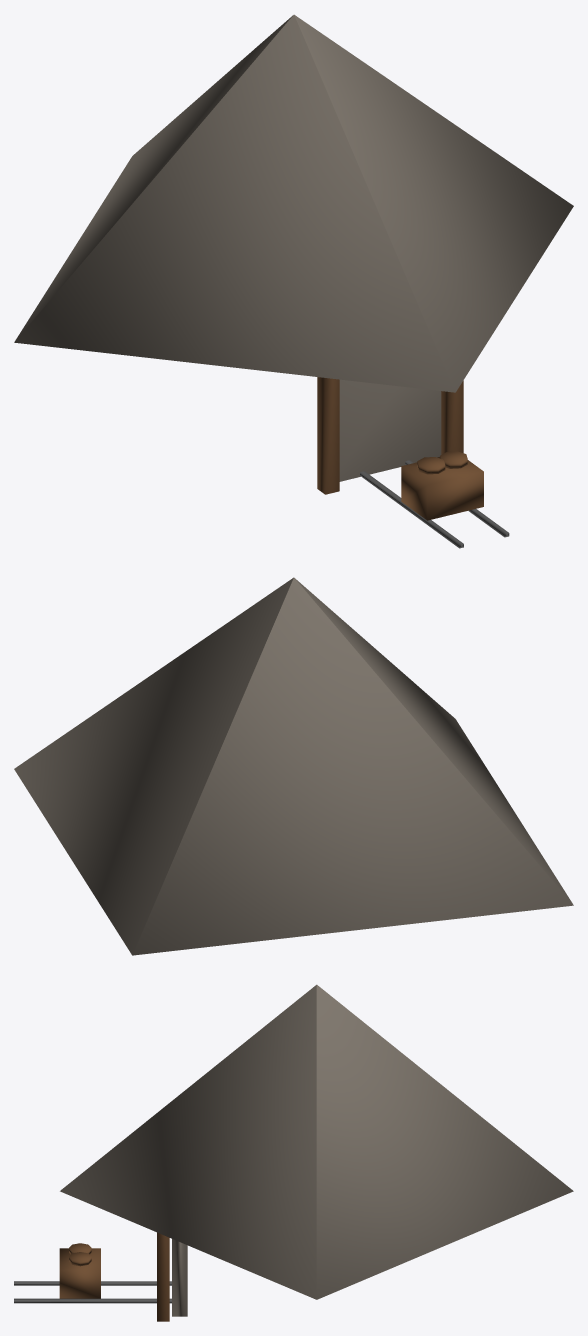
File: mine.glb
3 renders of one model, top to bottom at view 1: azimuth 30°, elevation 25°; view 2: azimuth 150°, elevation 25°; view 3: azimuth 270°, elevation 25°, orthographic. The views are drawn at different scales.
Visible parts, largest first — view 1: hill, entrance, cart_base, support_left, support_right, track_left; view 2: hill; view 3: hill, cart_base, entrance, support_right, track_right, track_left.
Part boxes in pixels (bbox=[...]): hill: bbox=[14, 14, 573, 392]; entrance: bbox=[339, 379, 441, 481]; cart_base: bbox=[401, 457, 483, 520]; support_left: bbox=[317, 377, 339, 494]; support_right: bbox=[441, 380, 463, 454]; track_left: bbox=[360, 471, 463, 548]; hill: bbox=[14, 577, 573, 955]; hill: bbox=[60, 984, 573, 1299]; cart_base: bbox=[59, 1248, 100, 1298]; entrance: bbox=[172, 1239, 187, 1316]; support_right: bbox=[157, 1232, 169, 1321]; track_right: bbox=[14, 1298, 171, 1303]; track_left: bbox=[14, 1281, 171, 1285].
Size of the model in its own units: 9.92 by 6.6 by 10.8.
